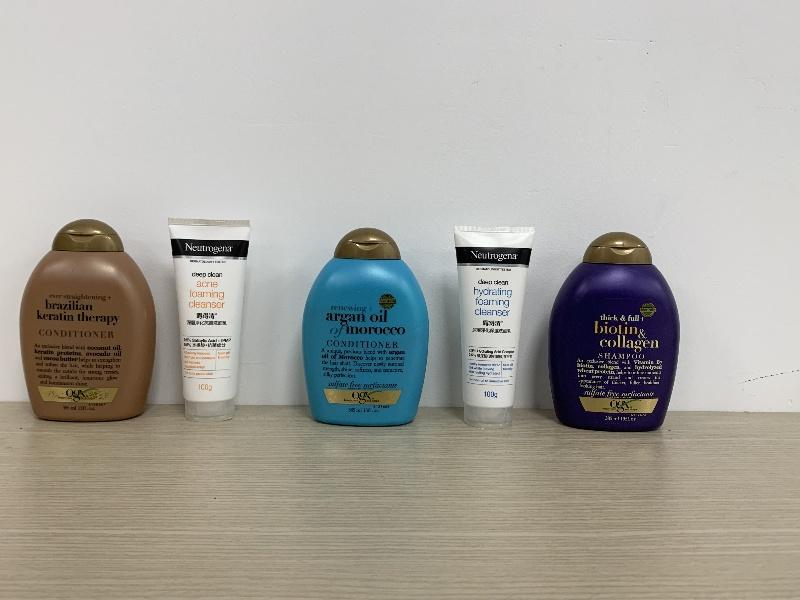AcneFoamingCleanser: (167, 217, 251, 421)
ArganOilOfMorocco_Conditioner: (301, 227, 429, 426)
BiotinCollagen_Shampoo: (547, 231, 680, 432)
BrazilianKerationTherapy_Conditioner: (19, 218, 157, 423)
HydratingFoamingCleanser: (453, 224, 536, 427)
